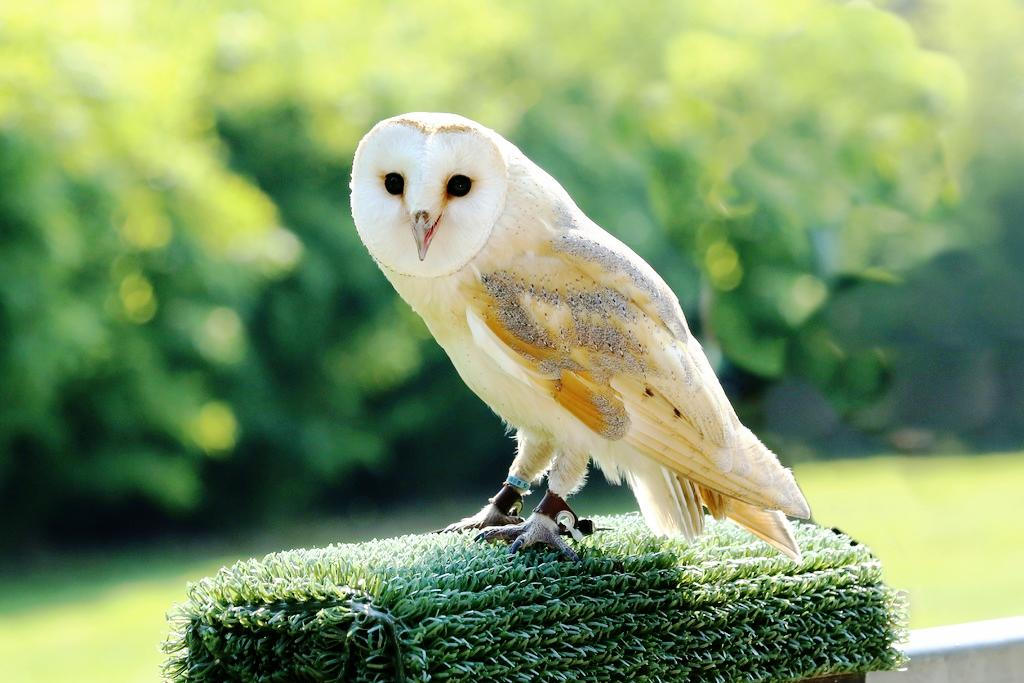Owl: (340, 108, 814, 557)
